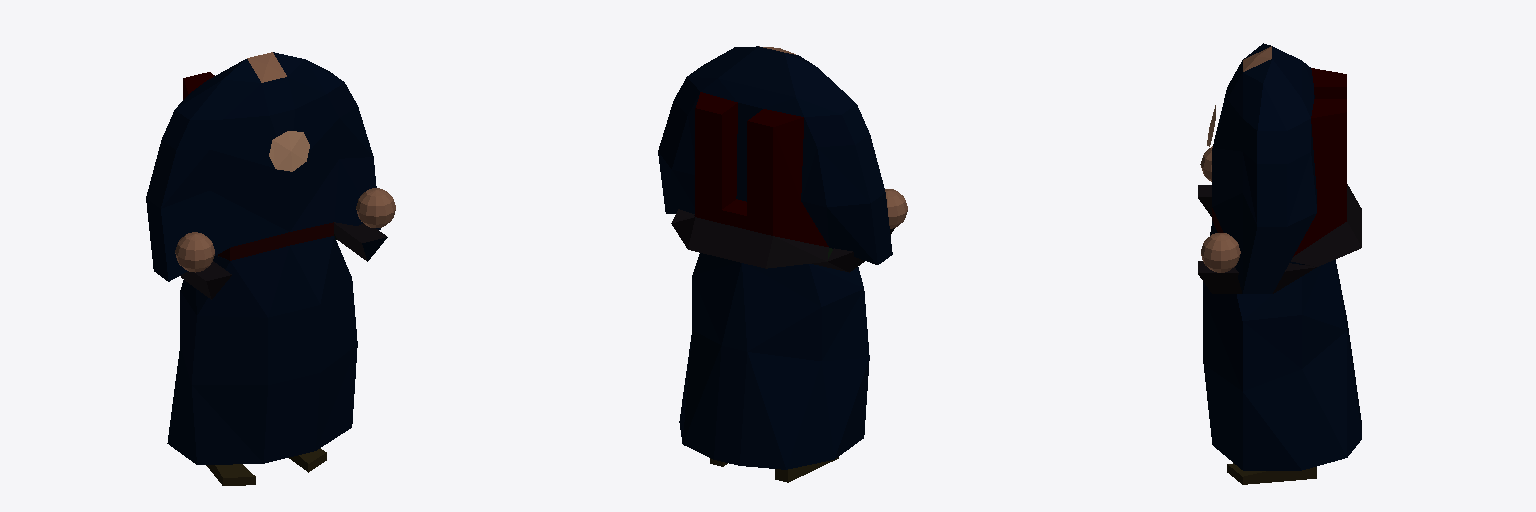
The model's file is TwinsenPROTOPACKBody.obj.
3 renders of one model, left to right at view 1: azimuth 30°, elevation 25°; view 2: azimuth 150°, elevation 25°; view 3: azimuth 270°, elevation 25°, orthographic.
Visible parts, largest first — view 1: body; view 2: body; view 3: body.
Boxes of the visible parts, <box> form: body: <box>146,52,395,485</box>; body: <box>658,46,907,482</box>; body: <box>1198,43,1361,484</box>.
Size of the model in its own units: 0.554 by 0.998 by 0.366.